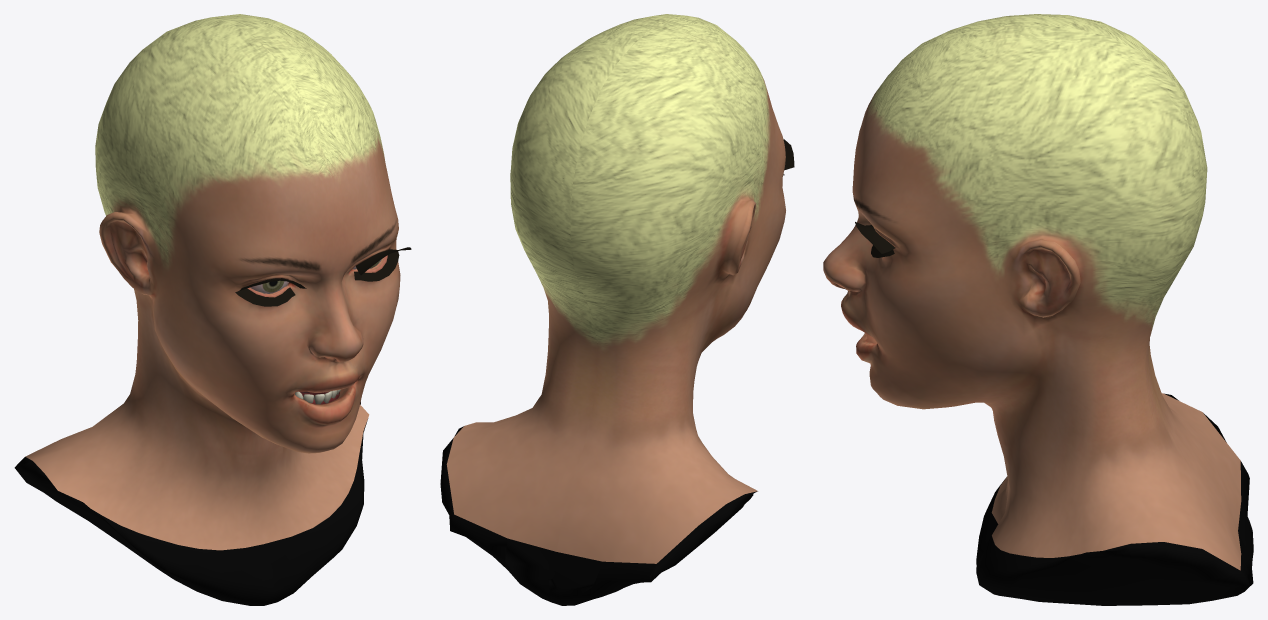
Rendered from Head_ll.obj.
3 views of the same model, side by side, from view 1: azimuth 30°, elevation 25°; view 2: azimuth 150°, elevation 25°; view 3: azimuth 270°, elevation 25° (orthographic). The views are drawn at different scales.
Parts seen in each view (by area): view 1: BodyParts; view 2: BodyParts; view 3: BodyParts.
Part boxes in pixels (box(x1,y1,x2,y2)): BodyParts: box(14, 14, 411, 605); BodyParts: box(440, 14, 794, 605); BodyParts: box(823, 14, 1253, 605).
Size of the model in its own units: 21.19 by 35.94 by 24.44.
2 materials, 2 textured.
